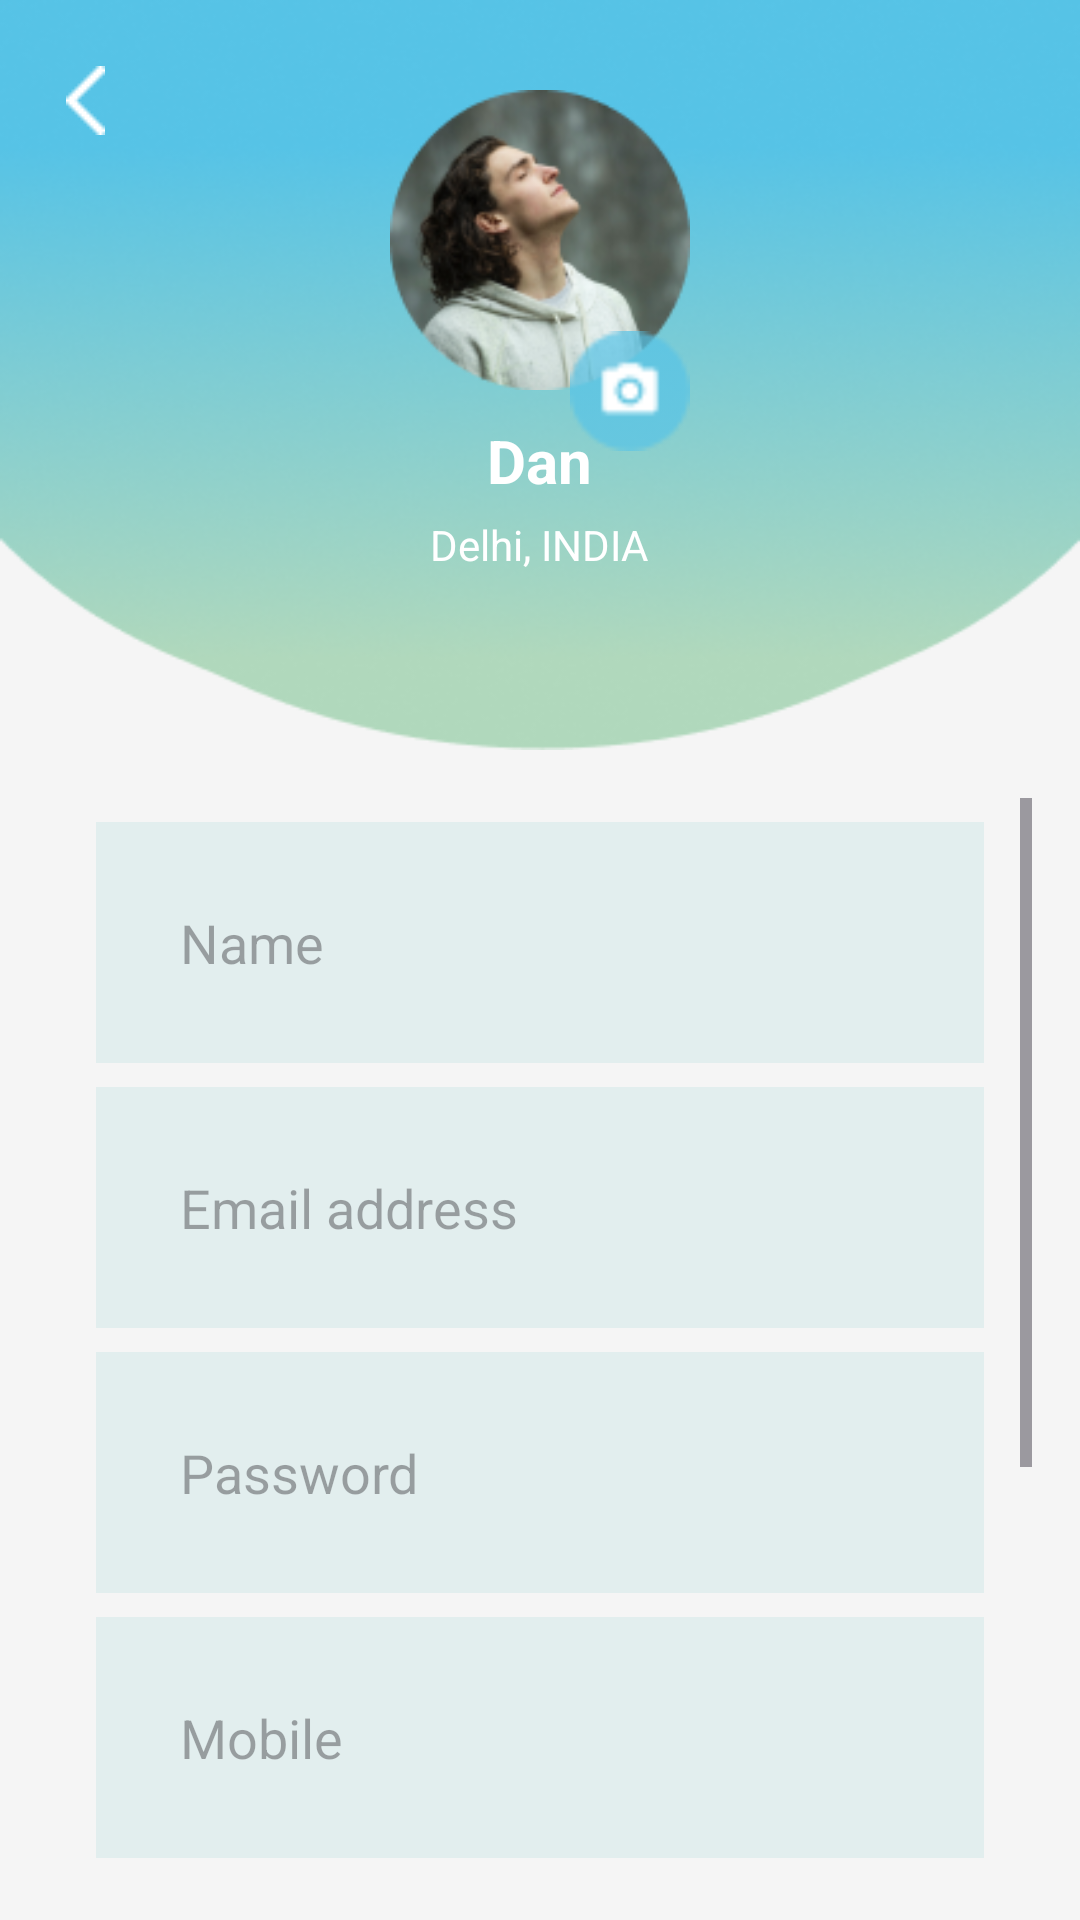

Point at icon controls on the screen. Image size 1080*1920, points as (x=x, y=y).
Back: (x=85, y=100)
camera: (x=630, y=391)
profile: (x=540, y=240)
